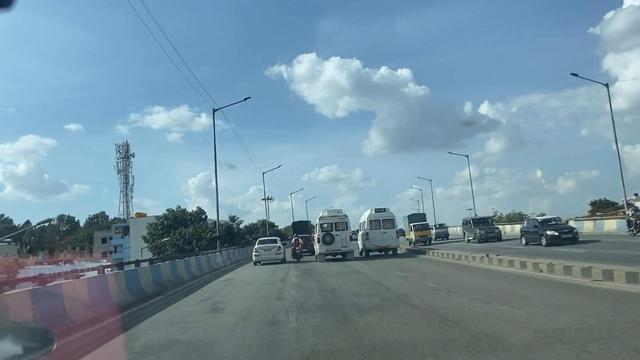HMV: (307, 201, 354, 259)
LMV: (247, 231, 290, 264), (289, 231, 306, 261)
